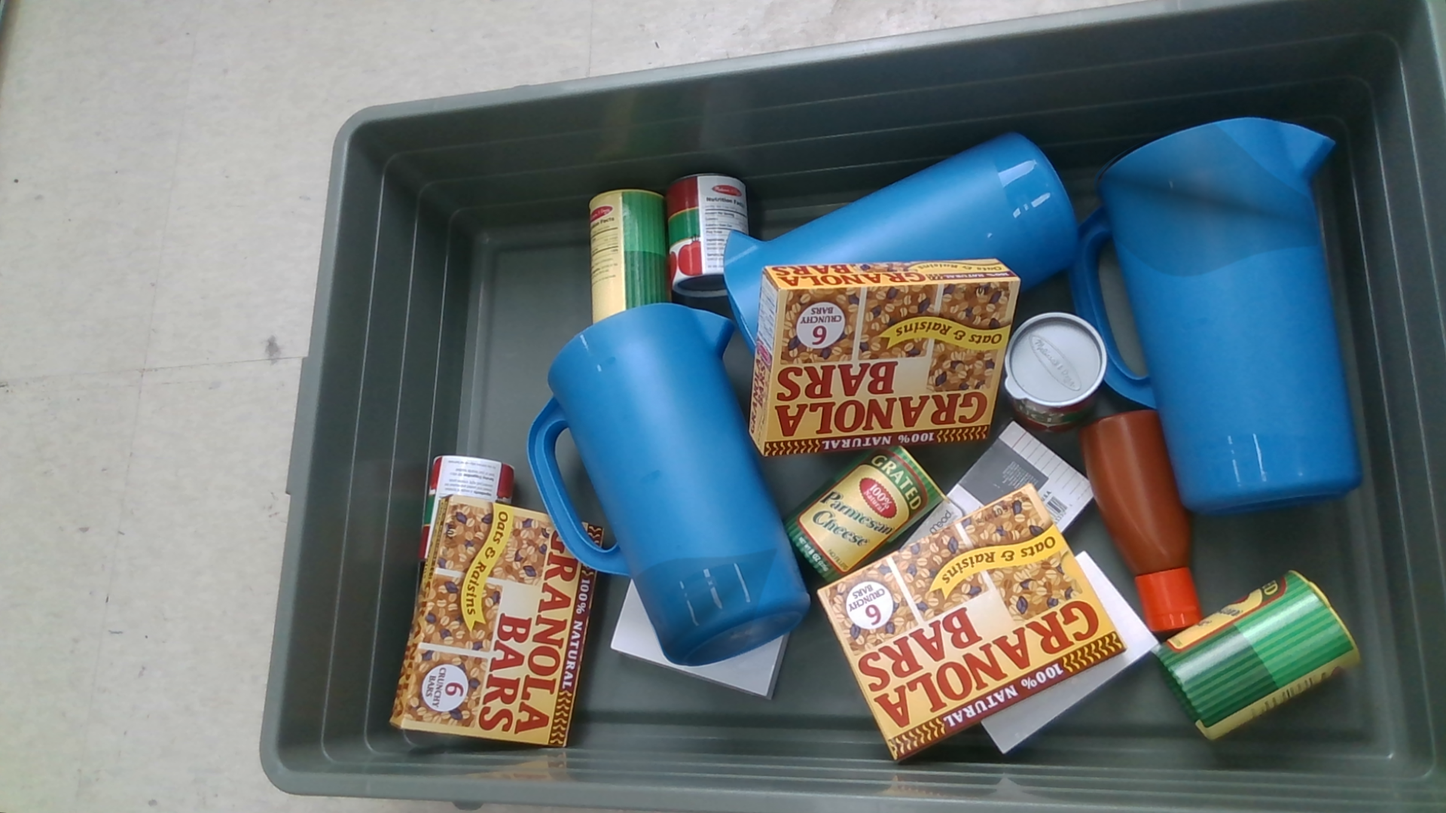defect: (1087, 122, 1318, 277), (636, 548, 777, 664)
